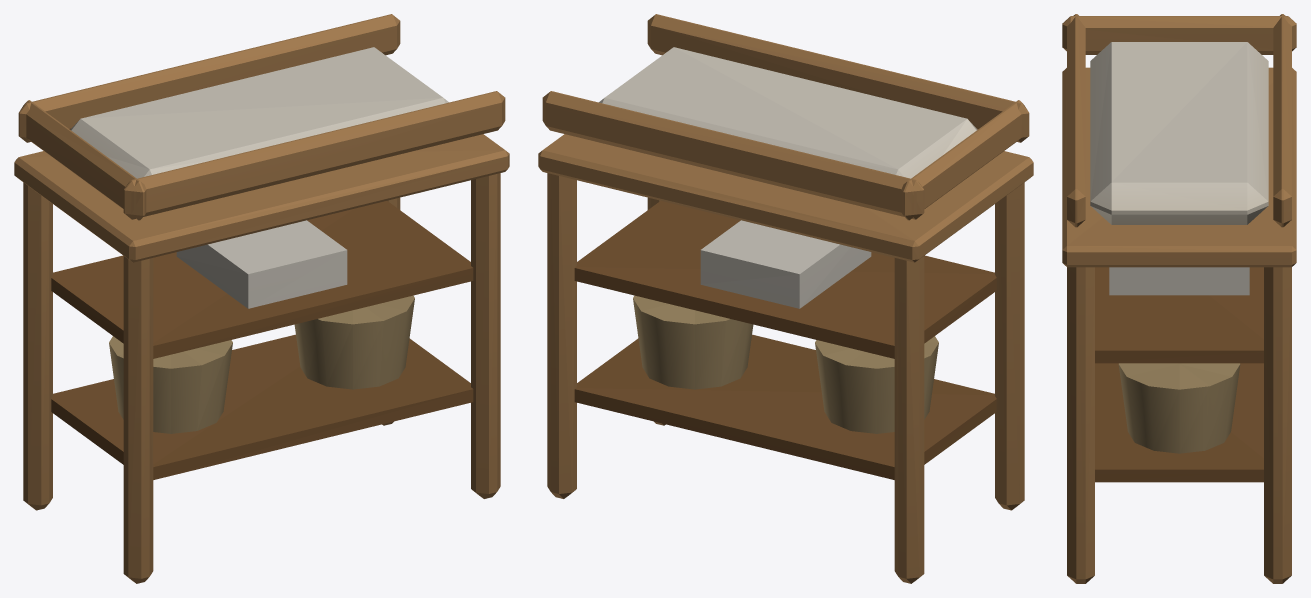
The model's file is changing_table.glb.
3 renders of one model, left to right at view 1: azimuth 30°, elevation 25°; view 2: azimuth 150°, elevation 25°; view 3: azimuth 270°, elevation 25°, orthographic.
Parts seen in each view (by area): view 1: changing_table; view 2: changing_table; view 3: changing_table.
Part boxes in pixels (<box>): changing_table: <box>14,14,509,583</box>; changing_table: <box>538,14,1033,583</box>; changing_table: <box>1062,14,1296,583</box>.
Bounding box in the file's own units: 0.92 × 0.935 × 0.5.
